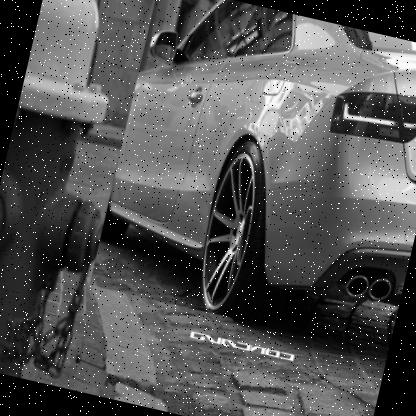Car: (88, 0, 415, 357)
